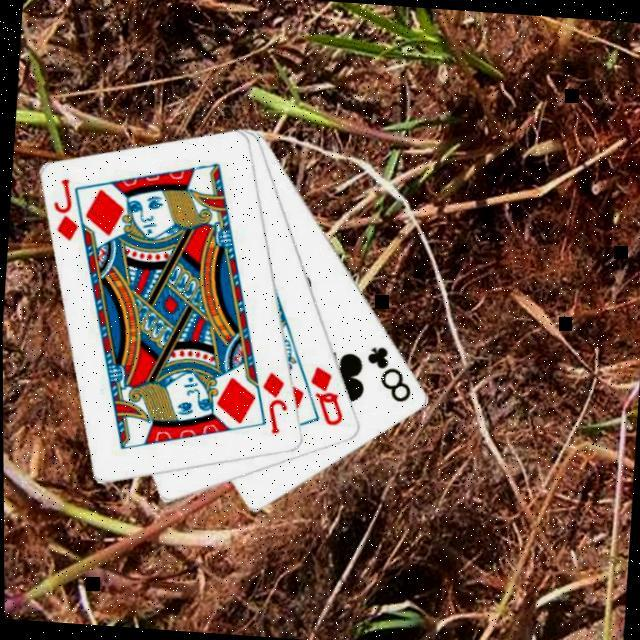8C: (358, 339, 414, 404)
JD: (253, 365, 290, 435), (45, 172, 82, 242)
QD: (303, 360, 347, 428)
